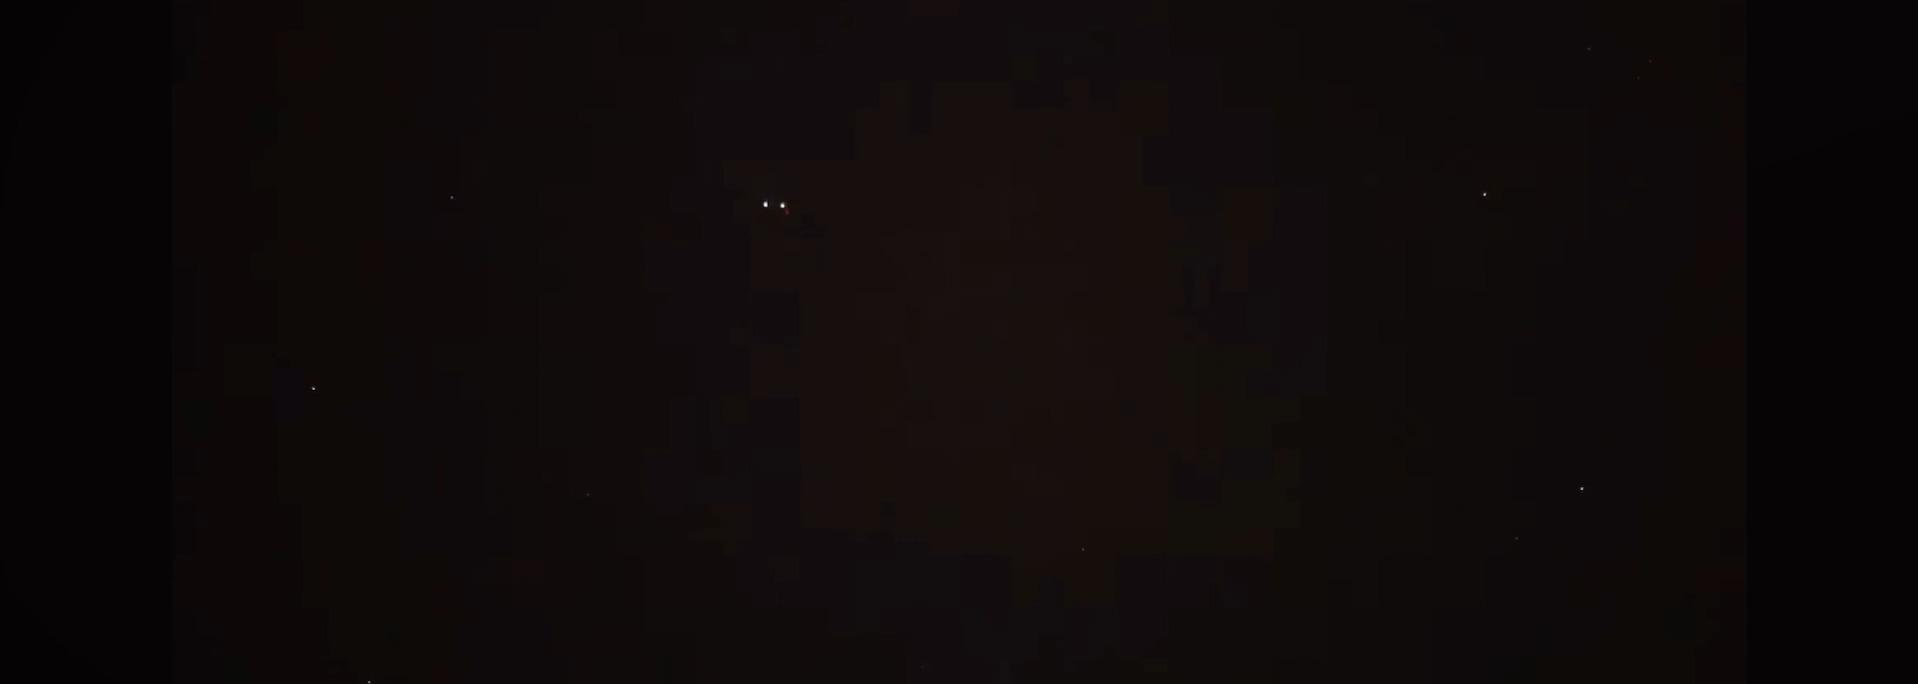Plane: (738, 195, 831, 226)
